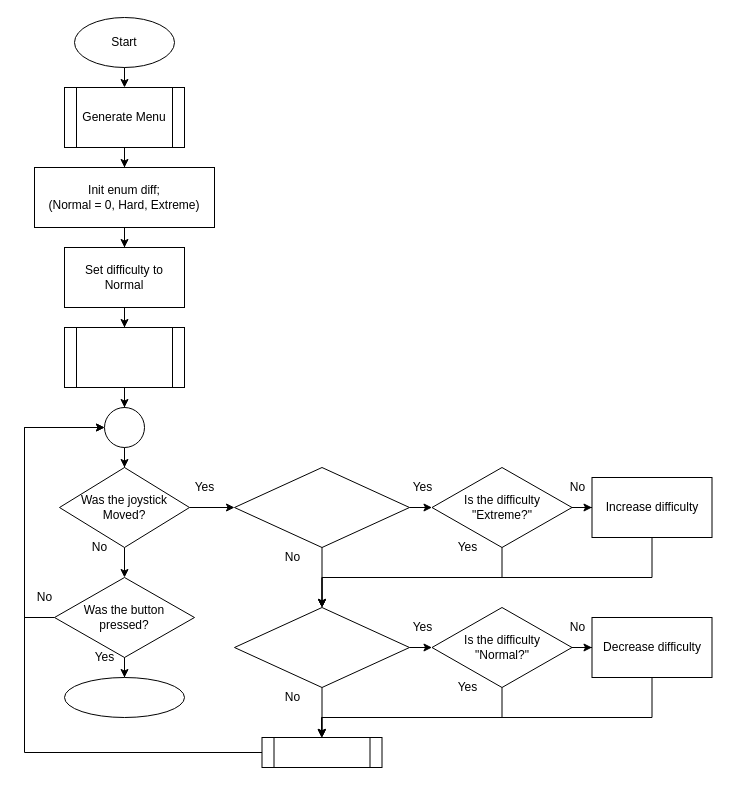
Image size: 730x785. Some labels were removed from this diagram. The centre of each missing label's shape, as x and y in pixels:
"Print Difficulty" goes at point (124, 357).
"Return difficulty" goes at point (124, 697).
"Update Menu" goes at point (321, 752).
"Was the joystick moved to the left?" goes at point (322, 647).
"Was the joystick moved to the right?" goes at point (322, 507).
